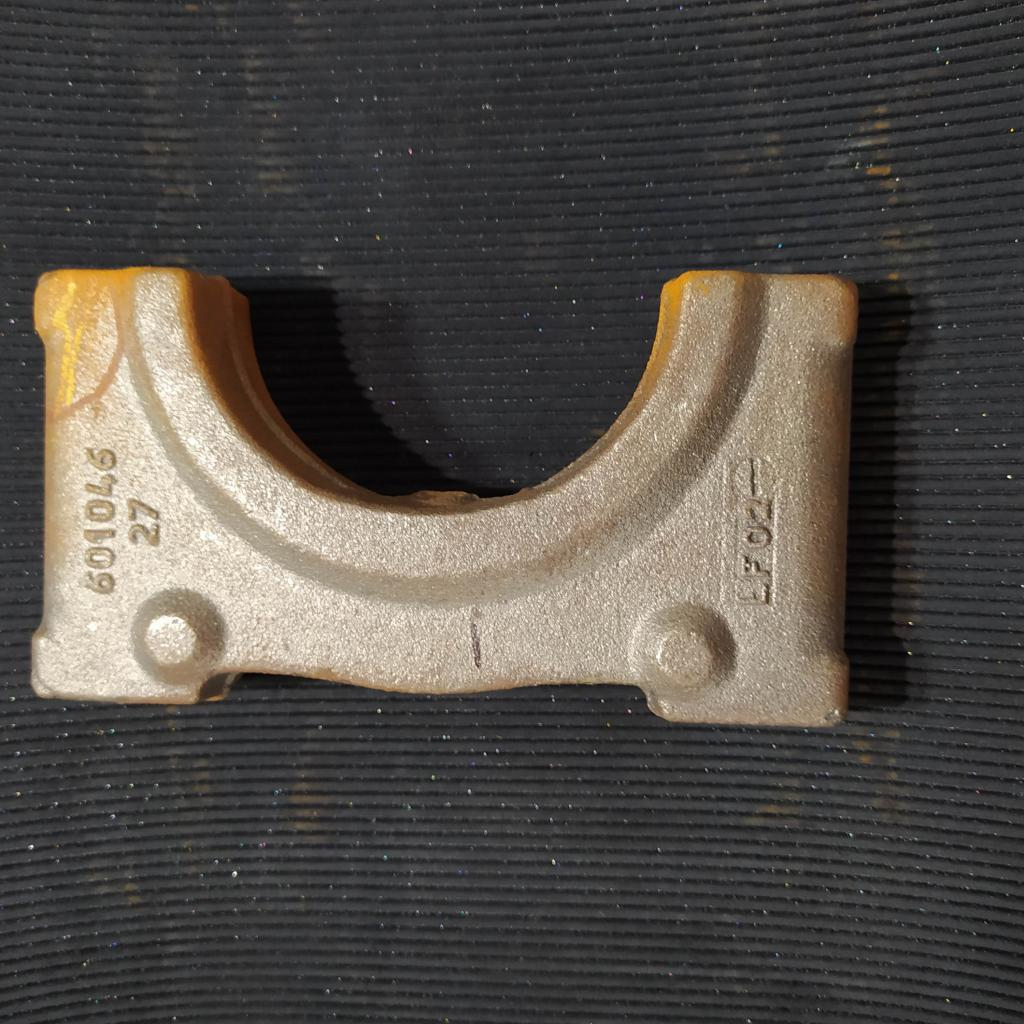rechupe: (32, 669, 55, 695)
